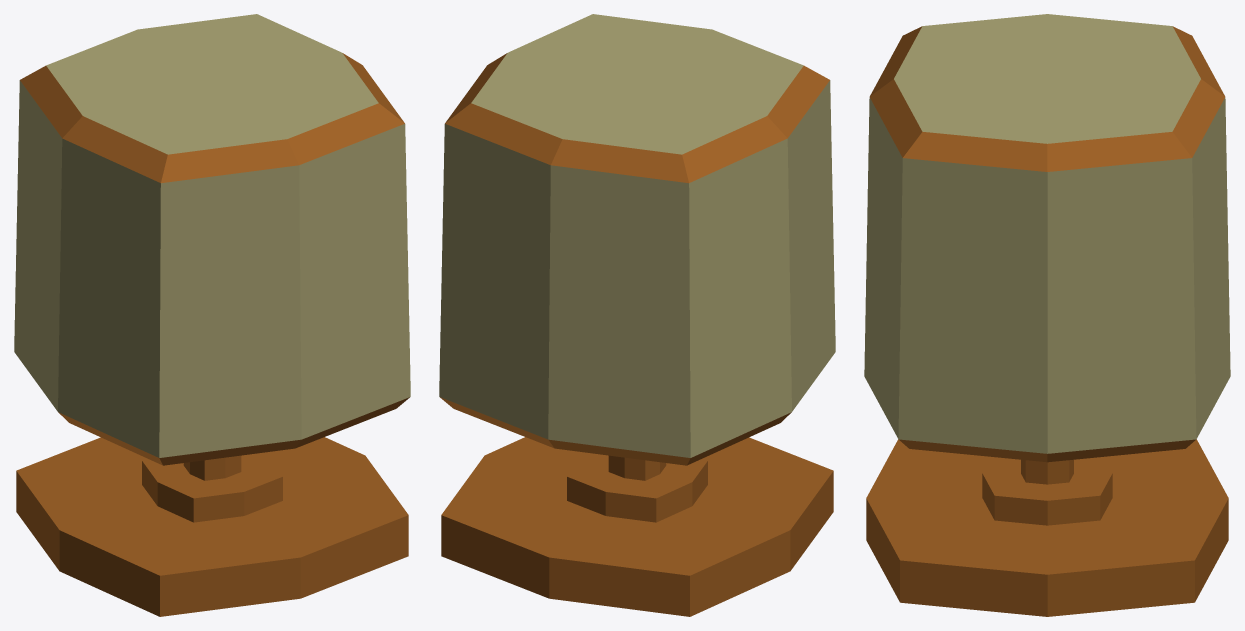
The model's file is Vintage_Nightstand_Lamp_2.fbx.
3 views of the same model, side by side, from view 1: azimuth 30°, elevation 25°; view 2: azimuth 150°, elevation 25°; view 3: azimuth 270°, elevation 25° (orthographic). The views are drawn at different scales.
Parts seen in each view (by area): view 1: Vintage_Nightstand_Lamp_2; view 2: Vintage_Nightstand_Lamp_2; view 3: Vintage_Nightstand_Lamp_2.
Part boxes in pixels (x1=…): Vintage_Nightstand_Lamp_2: x1=14, y1=14, x2=410, y2=616; Vintage_Nightstand_Lamp_2: x1=439, y1=14, x2=835, y2=616; Vintage_Nightstand_Lamp_2: x1=864, y1=14, x2=1230, y2=616.
Size of the model in its own units: 873 by 1213 by 873.
